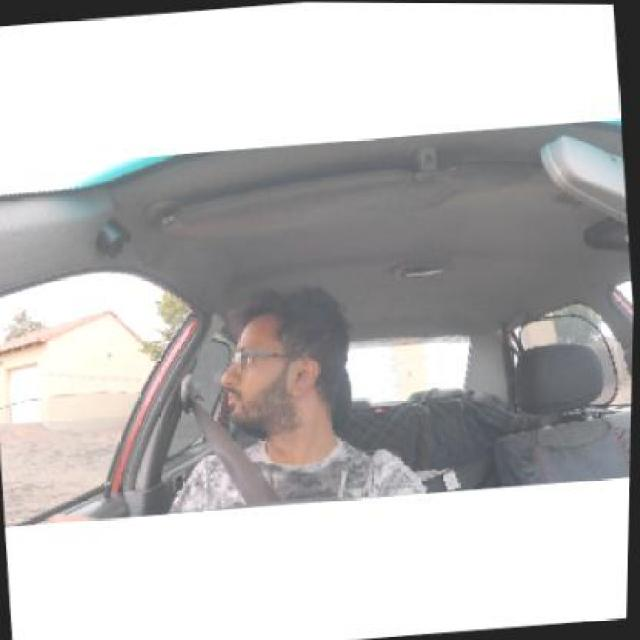LeftRight: (190, 278, 363, 464)
